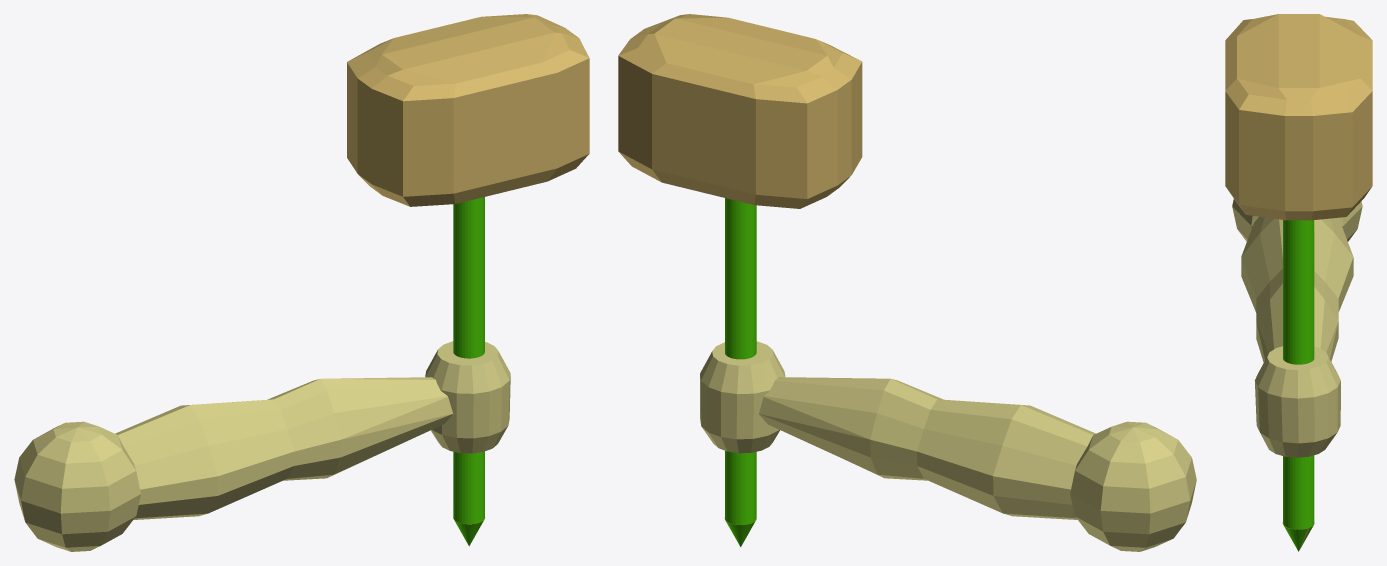
The model's file is armandhammerandanimation.fbx.
The picture shows the model from 3 angles, left to right: view 1: azimuth 30°, elevation 25°; view 2: azimuth 150°, elevation 25°; view 3: azimuth 270°, elevation 25°; orthographic projection.
Parts seen in each view (by area): view 1: Cube; view 2: Cube; view 3: Cube.
Part boxes in pixels (x1=…): Cube: x1=14, y1=14, x2=589, y2=551; Cube: x1=618, y1=14, x2=1196, y2=551; Cube: x1=1225, y1=14, x2=1372, y2=551.
Bounding box in the file's own units: 1157 × 1007 × 269.
